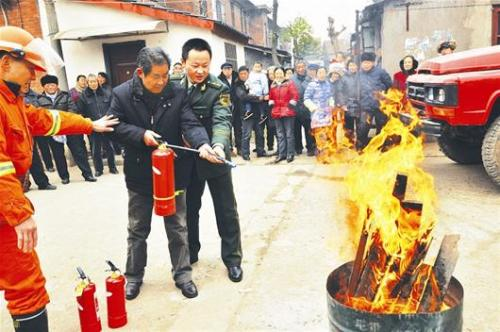fire: (313, 91, 443, 313)
